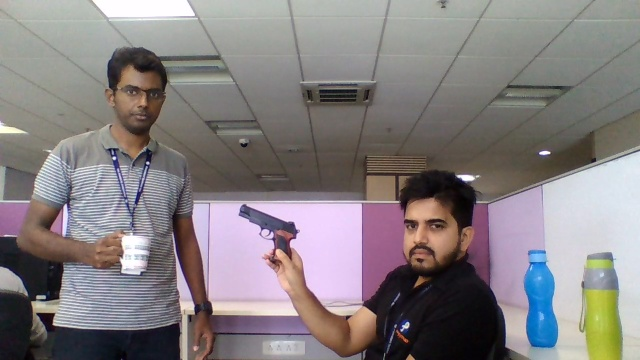gun: (236, 203, 302, 250)
